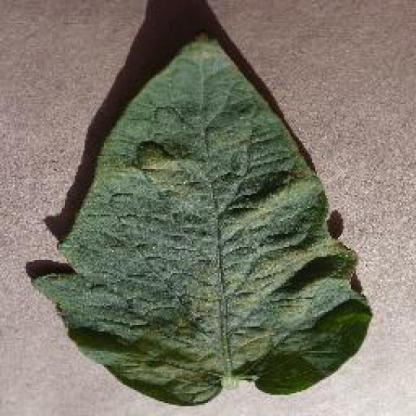Tomato_Spider_Mites: (32, 31, 370, 402)
